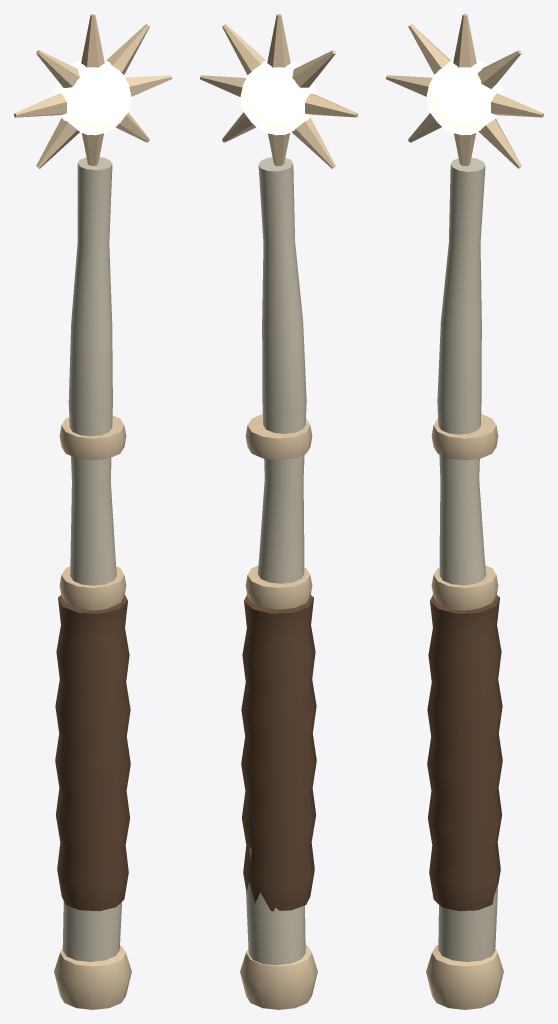
Rendered from depth_sunwheel_wand.glb.
3 views of the same model, side by side, from view 1: azimuth 30°, elevation 25°; view 2: azimuth 150°, elevation 25°; view 3: azimuth 330°, elevation 25° (orthographic).
Visible parts, largest first — view 1: depth_sunwheel_wand; view 2: depth_sunwheel_wand; view 3: depth_sunwheel_wand.
Part boxes in pixels (x1,y1,x2,y2): depth_sunwheel_wand: (14,14,171,1009); depth_sunwheel_wand: (200,14,357,1009); depth_sunwheel_wand: (386,14,543,1009).
Bounding box in the file's own units: 0.06 × 0.365 × 0.026.
